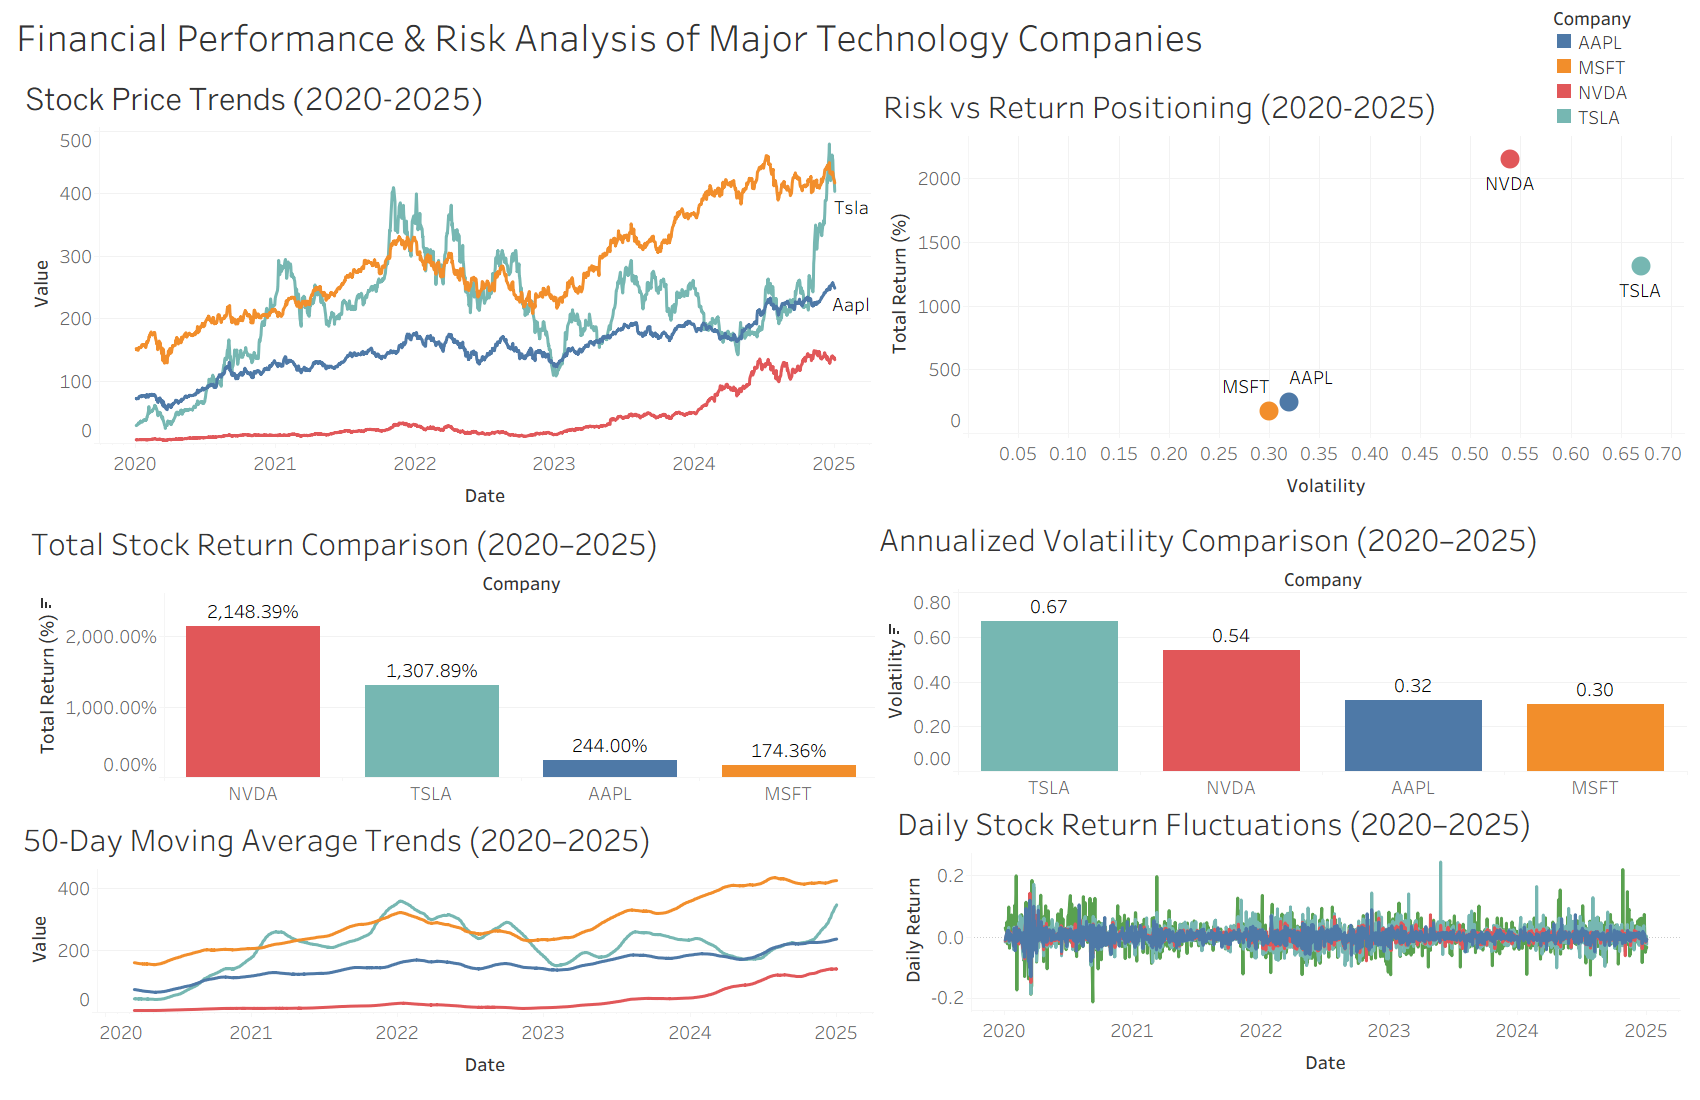

What the dashboard file says about the page in this screenshot:
{"tool":"tableau","page":{"name":"Dashboard 1","canvas":[1700,1100],"ordinal":0},"visuals":[{"type":"legend","title":"Risk vs Return Analysis","param":"[federated.1fn84391gkoexs12i0qlq0ha67s0].[none:Company:nk]","box":[1552,3,145,141]},{"type":"title","box":[8,8,1684,58]},{"type":"worksheet","title":"Stock Price Trends","mark":"Automatic","cols":["Date"],"box":[20.6,73.7,850,440]},{"type":"worksheet","title":"Risk vs Return Analysis","mark":"Circle","rows":["Total Return (%)"],"cols":["Volatility"],"box":[879,79.2,805,424.6]},{"type":"worksheet","title":"Volatility Comparison","mark":"Automatic","rows":["Volatility"],"cols":["Company"],"box":[875,512,812,288]},{"type":"worksheet","title":"Total Return Comparison","mark":"Automatic","rows":["Total Return (%)"],"cols":["Company"],"box":[27,516,851,290]},{"type":"worksheet","title":"Daily Returns Trend","mark":"Line","cols":["Date"],"box":[893,796,787,285]},{"type":"worksheet","title":"Moving Average Trends","mark":"Line","cols":["Date"],"box":[19,812,854,271]}]}

Visuals, with their boxes in screenshot pixels (x1, y1, x2, y2), scaled from the page's 1700x1100 canvas onto the 1700x1100 screenshot:
"Risk vs Return Analysis" legend: [1552, 3, 1697, 144]
title: [8, 8, 1692, 66]
"Stock Price Trends" worksheet: [21, 74, 871, 514]
"Risk vs Return Analysis" worksheet (Circle marks): [879, 79, 1684, 504]
"Volatility Comparison" worksheet: [875, 512, 1687, 800]
"Total Return Comparison" worksheet: [27, 516, 878, 806]
"Daily Returns Trend" worksheet (Line marks): [893, 796, 1680, 1081]
"Moving Average Trends" worksheet (Line marks): [19, 812, 873, 1083]
